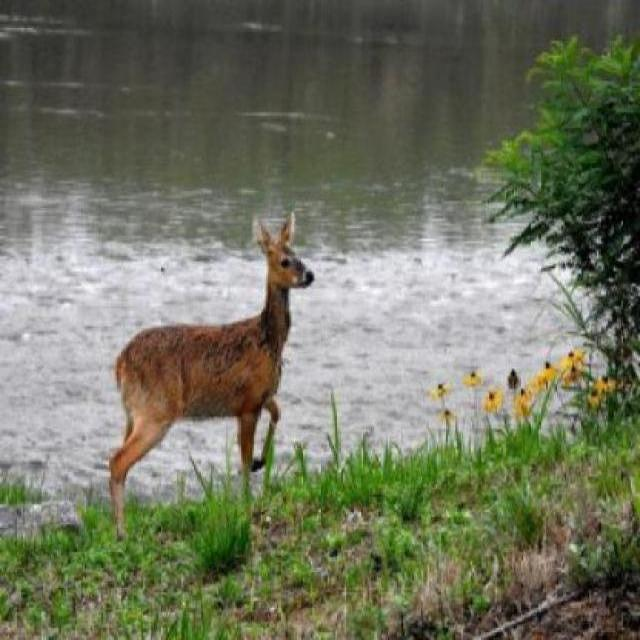deer: (86, 209, 322, 562)
